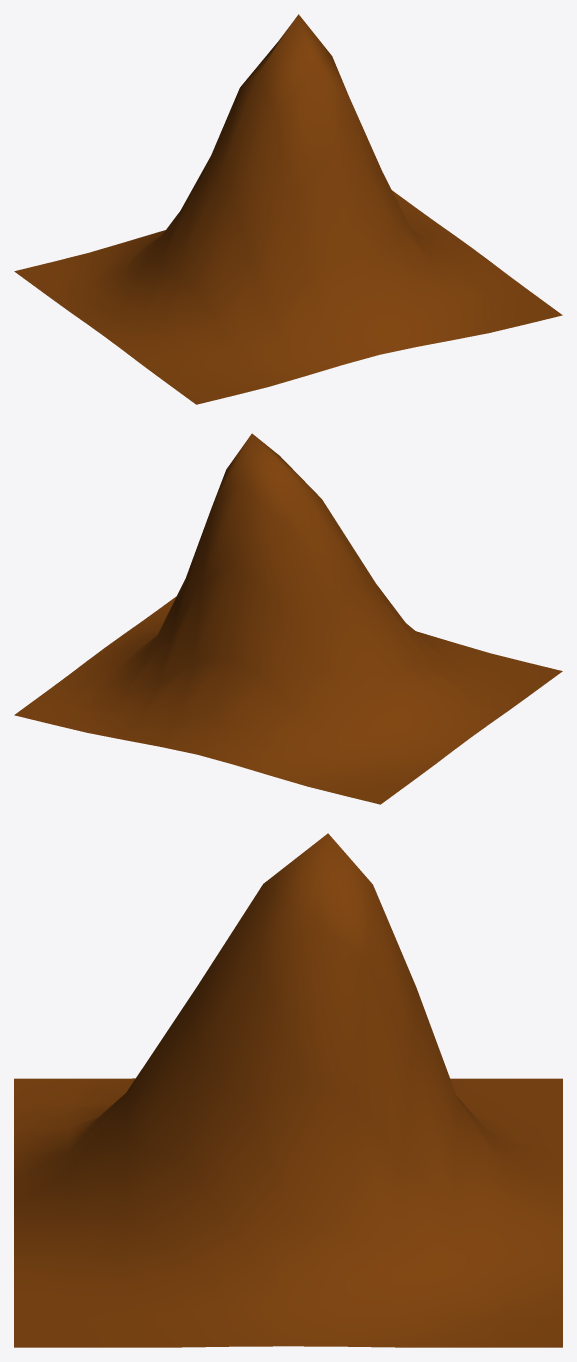
Rendered from mountain.FBX.
The picture shows the model from 3 angles, top to bottom: view 1: azimuth 30°, elevation 25°; view 2: azimuth 150°, elevation 25°; view 3: azimuth 270°, elevation 25°; orthographic projection. The views are drawn at different scales.
Visible parts, largest first — view 1: Plane001; view 2: Plane001; view 3: Plane001.
Boxes of the visible parts, bbox=[...] form: Plane001: bbox=[14, 14, 562, 404]; Plane001: bbox=[14, 433, 562, 804]; Plane001: bbox=[14, 833, 562, 1347].
Bounding box in the file's own units: 62.23 × 42.8 × 53.62.
